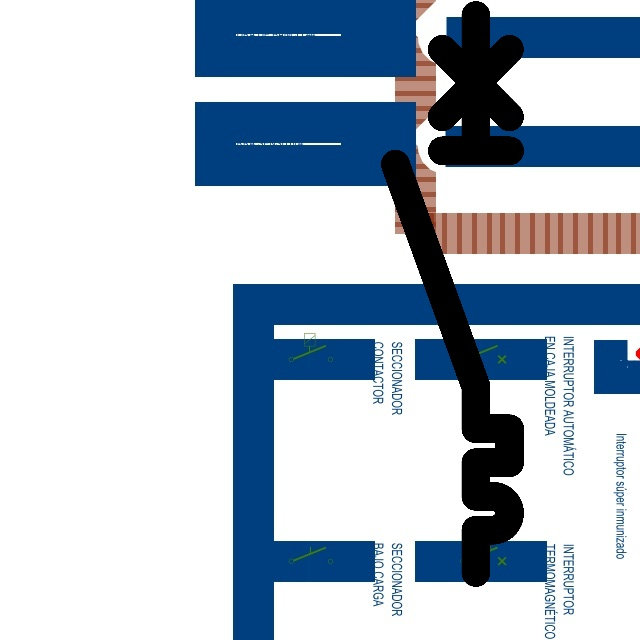interruptor_termomagnetico: (381, 1, 524, 587)
